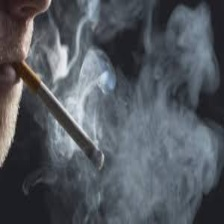smoke: (61, 44, 183, 211)
